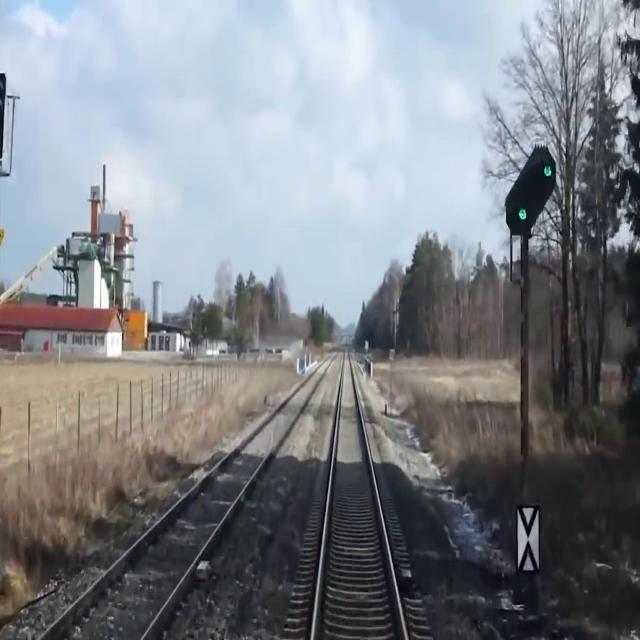rail-track: (315, 347, 404, 639)
